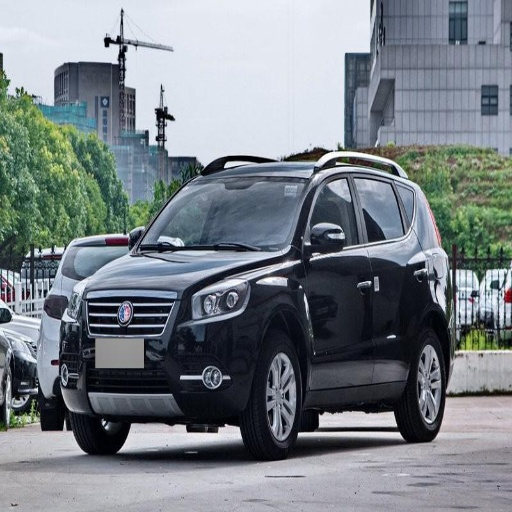front_bumper: (41, 279, 263, 418)
front_glass: (136, 179, 307, 250)
front_left_door: (303, 169, 372, 387)
